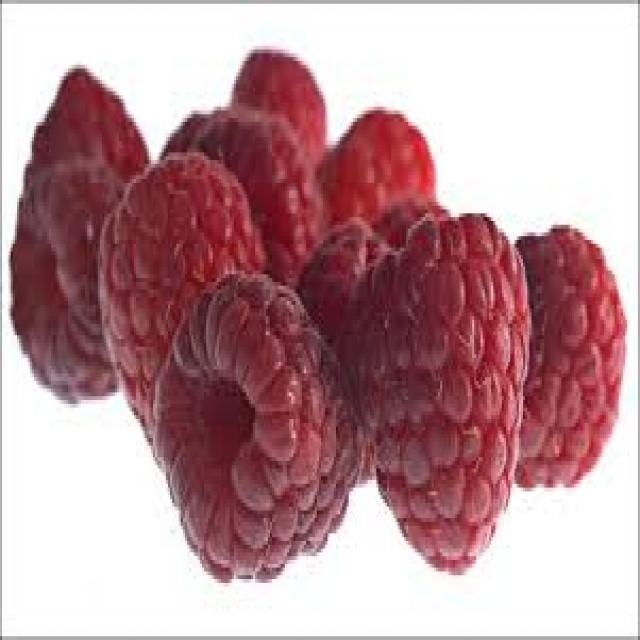organic waste: (338, 213, 530, 579), (151, 263, 364, 583), (96, 148, 266, 464), (508, 221, 625, 488), (9, 175, 119, 404), (187, 106, 319, 290), (11, 61, 151, 171), (319, 106, 432, 228), (230, 46, 321, 144), (157, 107, 225, 152)
